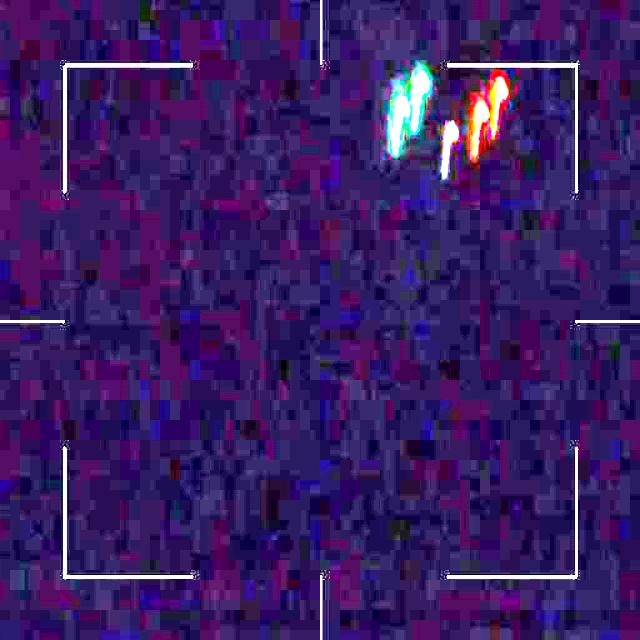bird: (389, 68, 510, 170)
